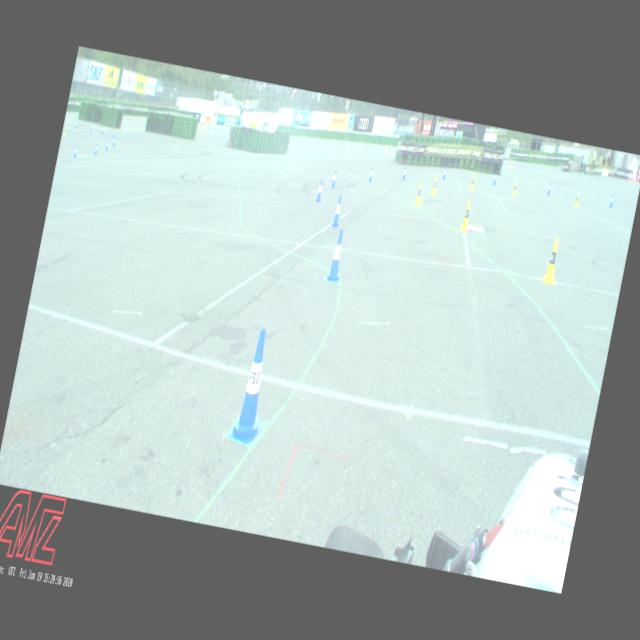blue_cone: (228, 326, 280, 444), (326, 228, 348, 282), (330, 194, 344, 228), (316, 178, 326, 202), (330, 169, 338, 188), (368, 165, 375, 182), (401, 166, 408, 182), (442, 167, 448, 180), (546, 182, 552, 195), (609, 194, 615, 207), (492, 172, 498, 184)
large_orange_cone: (631, 166, 636, 182), (628, 166, 633, 181), (636, 167, 640, 182), (634, 167, 638, 182)
yellow_cone: (542, 238, 563, 286), (460, 200, 473, 231), (414, 181, 424, 206), (430, 176, 439, 196), (468, 174, 476, 192), (511, 180, 518, 196), (574, 192, 580, 208)
